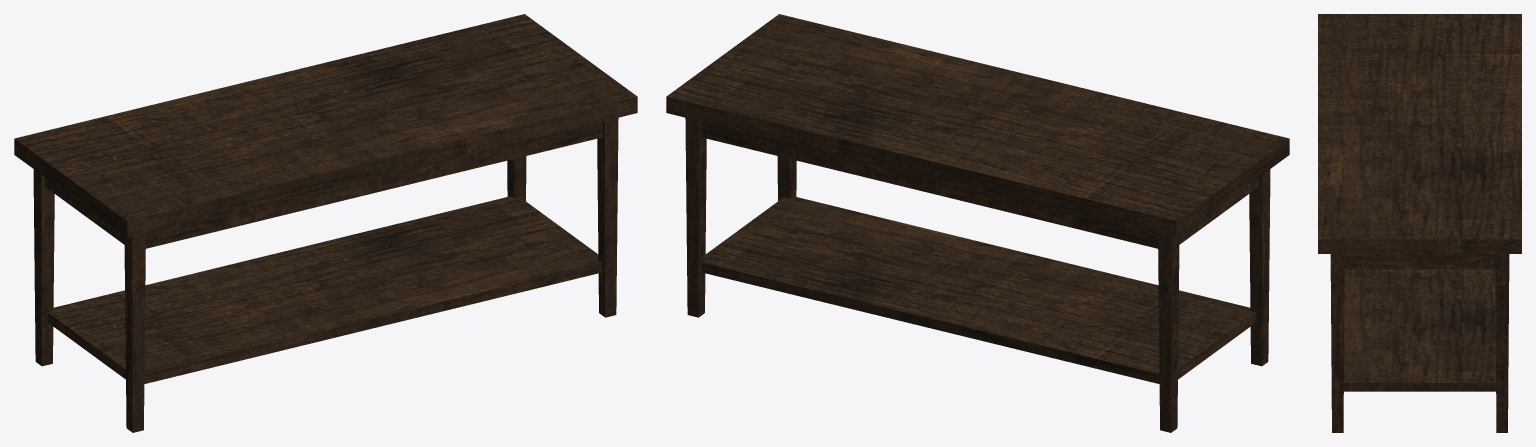
The model's file is coffee_table_1_1.obj.
3 views of the same model, side by side, from view 1: azimuth 30°, elevation 25°; view 2: azimuth 150°, elevation 25°; view 3: azimuth 270°, elevation 25° (orthographic). The views are drawn at different scales.
Visible parts, largest first — view 1: coffee_table_1_1; view 2: coffee_table_1_1; view 3: coffee_table_1_1.
Boxes of the visible parts, x1,y1,x2,y2 form: coffee_table_1_1: (14, 14, 637, 432); coffee_table_1_1: (666, 14, 1289, 432); coffee_table_1_1: (1318, 14, 1521, 432).
Size of the model in its own units: 1.62 by 0.67 by 0.62.
